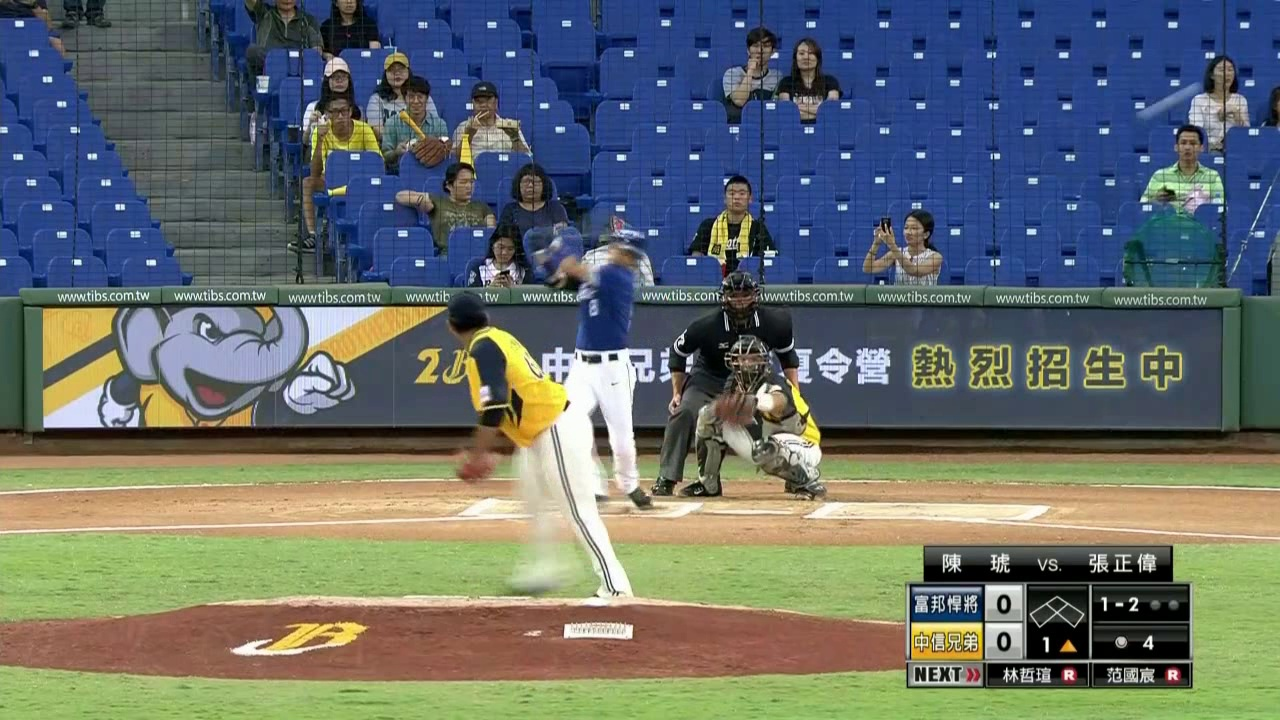ball: (1155, 96, 1182, 105)
base: (1027, 593, 1089, 630)
bat: (543, 231, 603, 256)
out: (1147, 595, 1183, 619)
score1: (988, 589, 1023, 620)
score2: (987, 621, 1023, 661)
session: (1030, 634, 1086, 655)
strikeball: (1089, 591, 1144, 621)
total: (1108, 632, 1157, 656)
